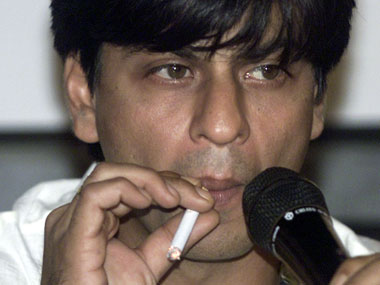cigarette: (168, 187, 207, 261)
